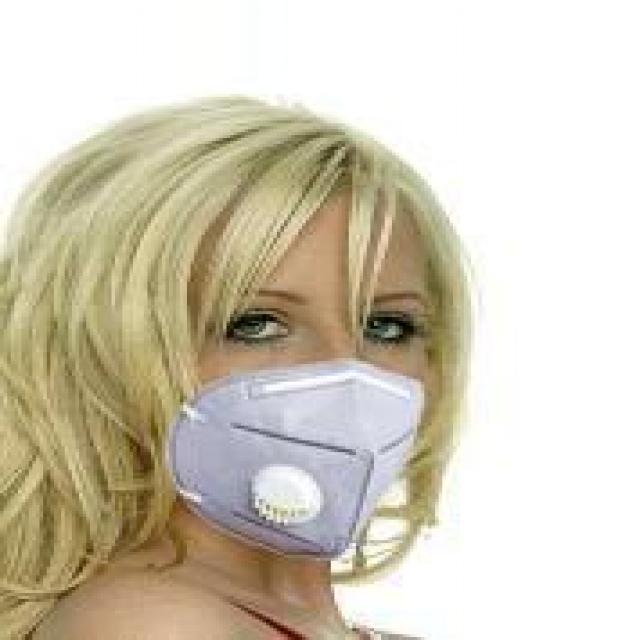mask: (72, 88, 467, 602)
